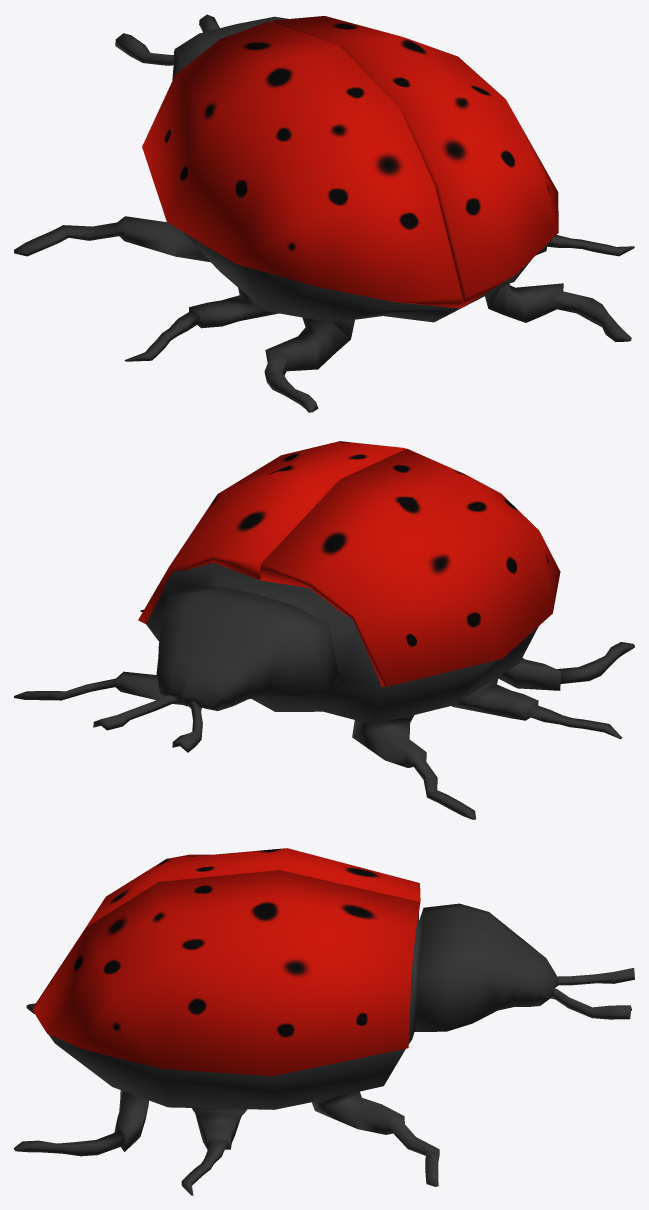
Rendered from LadyBug.gltf.
3 views of the same model, one above another, from view 1: azimuth 30°, elevation 25°; view 2: azimuth 150°, elevation 25°; view 3: azimuth 270°, elevation 25° (orthographic). The views are drawn at different scales.
Visible parts, largest first — view 1: Cube.001, Cube; view 2: Cube.001, Cube; view 3: Cube.001, Cube.
Boxes of the visible parts, x1,y1,x2,y2 form: Cube.001: (142,16,558,308); Cube: (14,14,634,412); Cube.001: (138,441,560,686); Cube: (14,562,634,819); Cube.001: (32,848,420,1076); Cube: (14,903,634,1195).
Bounding box in the file's own units: 4.28 × 1.94 × 4.92.
Materials: 2 (1 with a texture image).
